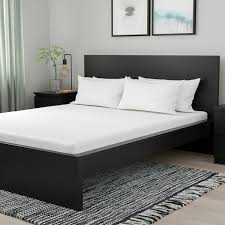bed-matress: (1, 101, 210, 157)
